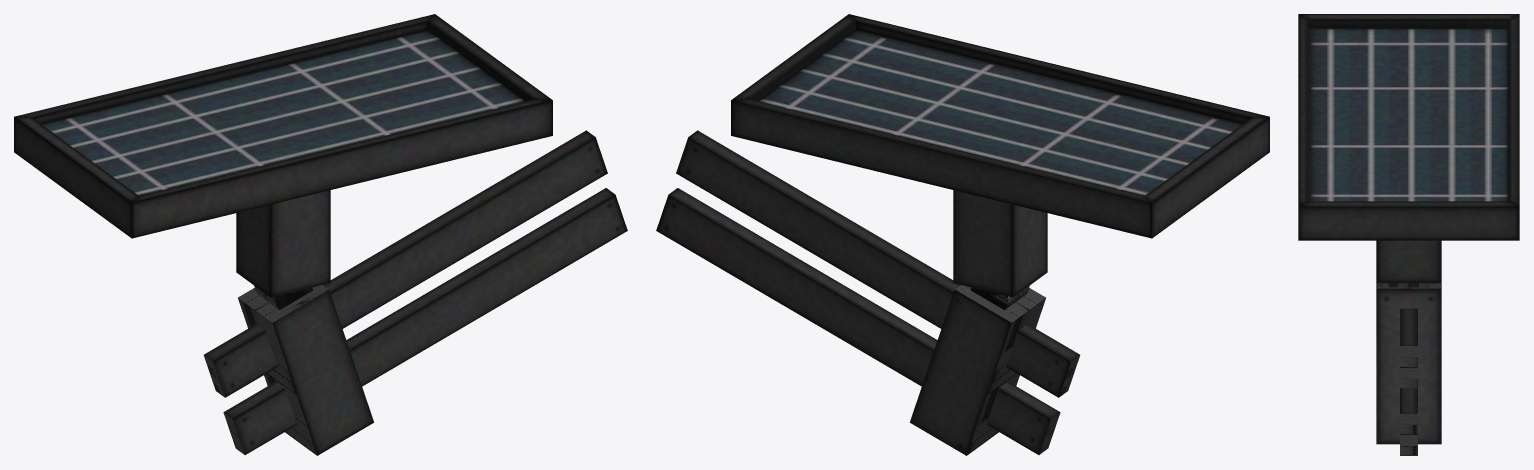
The model's file is spaceDebris1.glb.
3 renders of one model, left to right at view 1: azimuth 30°, elevation 25°; view 2: azimuth 150°, elevation 25°; view 3: azimuth 270°, elevation 25°, orthographic. The views are drawn at different scales.
Size of the model in its own units: 3.63 by 2.14 by 1.35.
Materials: 1 (1 with a texture image).
